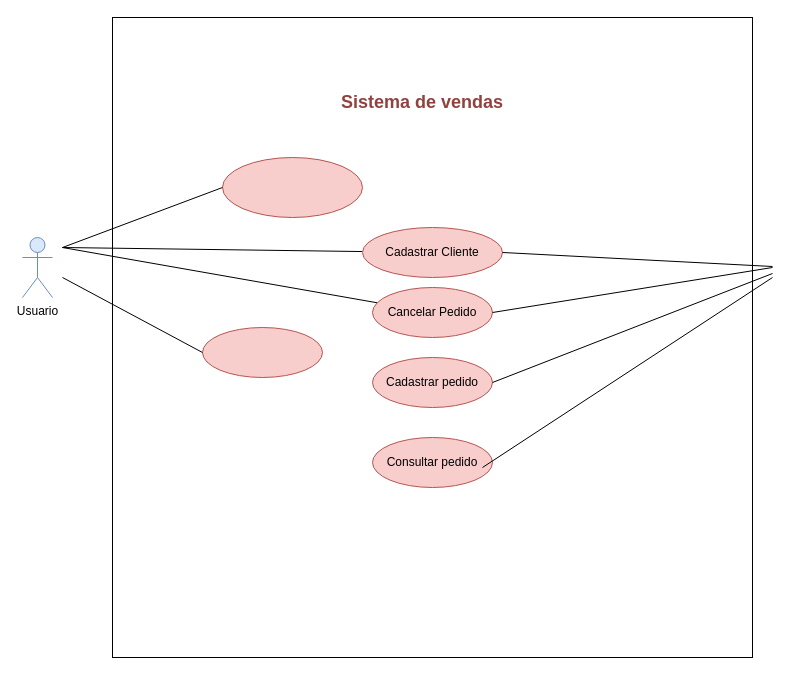
The diagram is 791 pixels wide and 675 high, and some of its shapes have lost their labels. The shapes that lost their labels are listed below. From the top down, each one's centre as x and y in pixels, then its label:
At (x=292, y=187): "Cadastrar produtos".
At (x=262, y=352): "Emitir relatorio de vendas".
